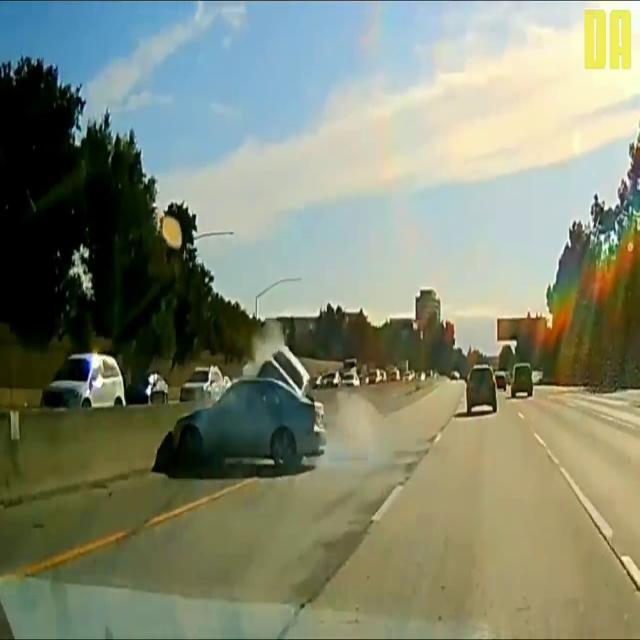multiple_accident: (167, 293, 368, 478)
